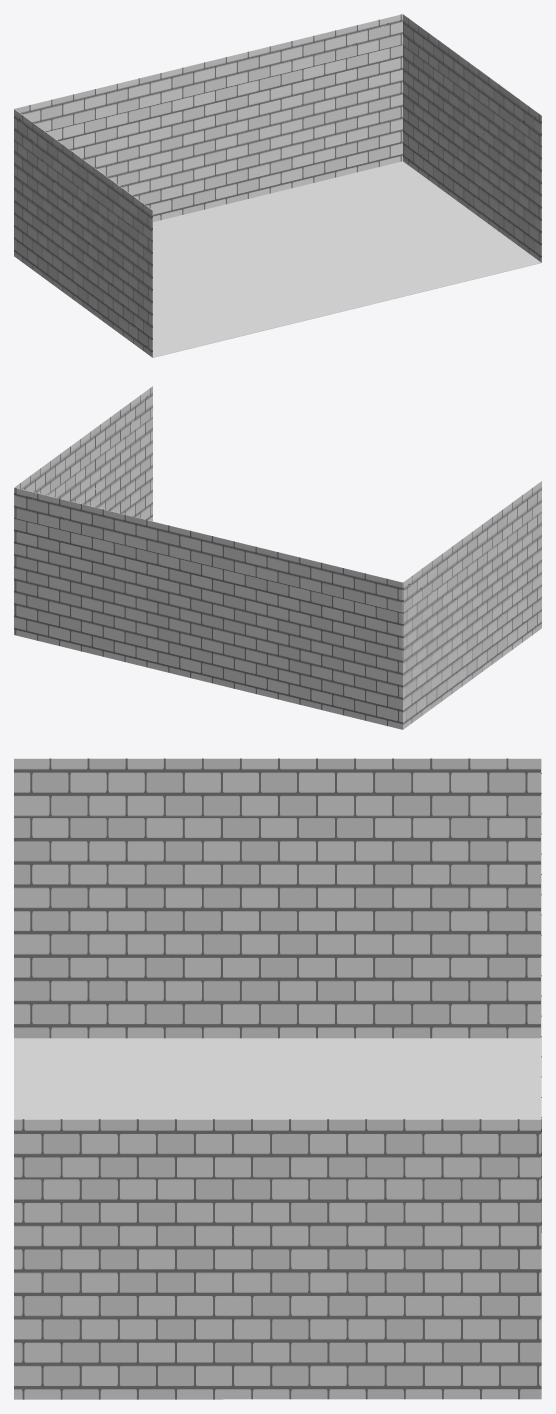
The model's file is room.fbx.
3 renders of one model, top to bottom at view 1: azimuth 30°, elevation 25°; view 2: azimuth 150°, elevation 25°; view 3: azimuth 270°, elevation 25°, orthographic. The views are drawn at different scales.
Visible parts, largest first — view 1: wall; view 2: wall; view 3: wall.
Part boxes in pixels (left/top/right/bottom): wall: left=14, top=14, right=541, bottom=357; wall: left=14, top=386, right=541, bottom=729; wall: left=14, top=758, right=541, bottom=1399.
Bounding box in the file's own units: 880 × 318 × 544.
